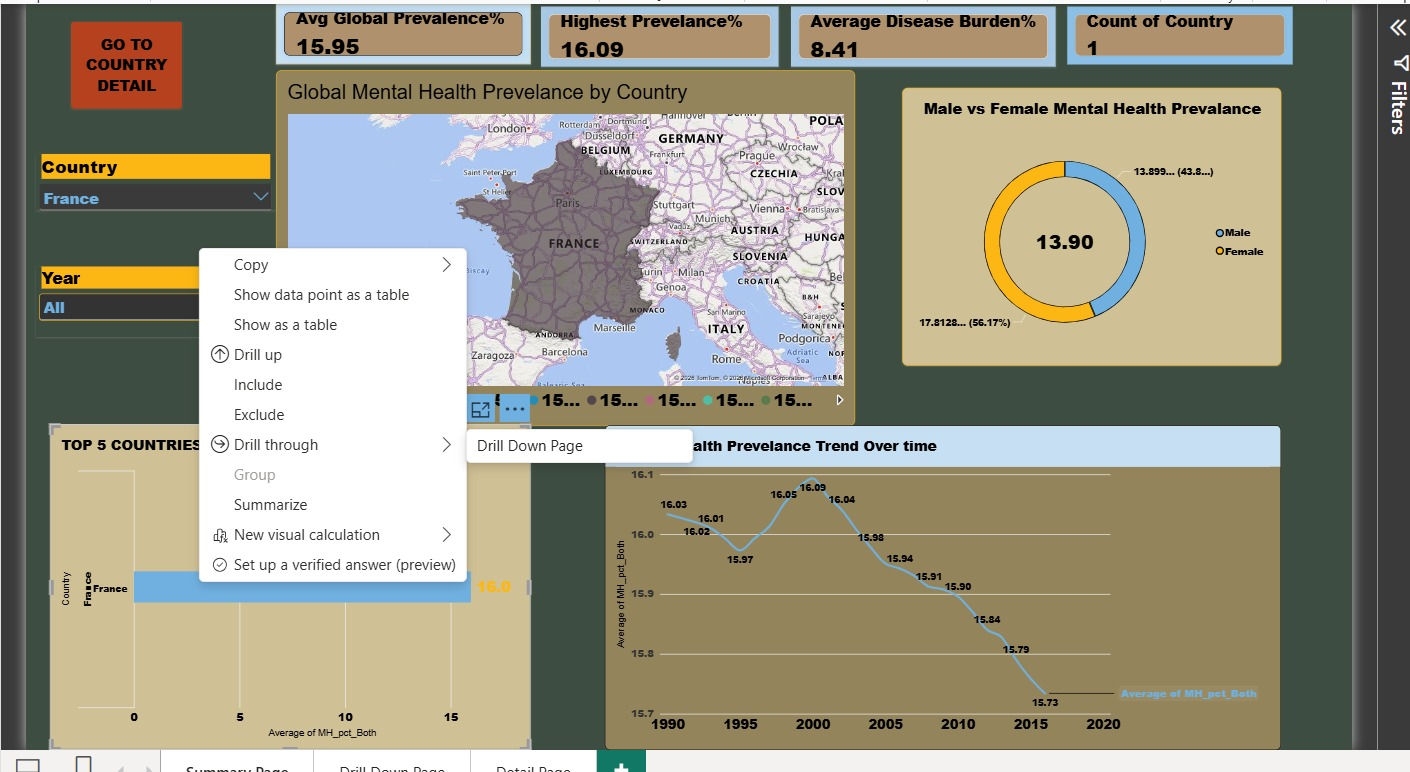

This screenshot's page, from the dashboard's own definition file:
{"tool":"powerbi","page":{"name":"Summary Page","canvas":[1920,1080],"ordinal":0},"visuals":[{"type":"filledMap","title":"Global Mental Health Prevelance by Country","fields":{"Category":["mental_health_disorder_prevalen.Country"],"Series":["mental_health_disorder_prevalen.MH_pct_Both"]},"box":[361.2,95.9,838.8,514.3],"z":0},{"type":"cardVisual","fields":{"Data":["Avg(mental_health_disorder_prevalen.MH_pct_Both)"]},"box":[361.2,0,369.4,87.8],"z":1000},{"type":"cardVisual","fields":{"Data":["Max(mental_health_disorder_prevalen.MH_pct_Both)"]},"box":[744.9,4.1,344.9,87.8],"z":2000},{"type":"cardVisual","fields":{"Data":["Avg(mental_health_disorder_prevalen.MH_DALY_Pct)"]},"box":[1108.2,4.1,383.7,87.8],"z":3000},{"type":"lineChart","title":"Mental Health Prevelance Trend Over time ","fields":{"Category":["mental_health_disorder_prevalen.Year"],"Y":["Avg(mental_health_disorder_prevalen.MH_pct_Both)"]},"box":[837.9,609.9,979,470.5],"z":4000},{"type":"clusteredBarChart","title":"TOP 5 COUNTRIES","fields":{"Category":["mental_health_disorder_prevalen.Country","mental_health_disorder_prevalen.Country"],"Y":["Avg(mental_health_disorder_prevalen.MH_pct_Both)"]},"box":[34.7,608.2,695.9,471.4],"z":5000},{"type":"slicer","fields":{"Values":["mental_health_disorder_prevalen.Year"]},"box":[14.3,379.6,346.9,102],"z":6000},{"type":"slicer","fields":{"Values":["mental_health_disorder_prevalen.Country"]},"box":[14.3,216.3,346.9,81.6],"z":7000},{"type":"donutChart","title":"Male vs Female Mental Health Prevalance","fields":{"Y":["Avg(mental_health_disorder_prevalen.MH_Pct_Male)","Avg(mental_health_disorder_prevalen.MH_Pct_Female)"]},"box":[1269.4,120.4,549,402],"z":8000},{"type":"cardVisual","fields":{"Data":["Count(mental_health_disorder_prevalen.Country)"]},"box":[1508.2,4.1,326.5,83.7],"z":9000},{"type":"actionButton","box":[65.3,24.5,161.2,126.5],"z":10000}]}

Visuals, with their boxes on the page's 1920x1080 design canvas (x1, y1, x2, y2). These are canvas units, not pixel positions in the 1410x772 screenshot, which may show the page scaled, cropped or inside an application window:
"Global Mental Health Prevelance by Country" filledMap: Rect(361, 96, 1200, 610)
cardVisual - Avg(mental_health_disorder_prevalen.MH_pct_Both): Rect(361, 0, 731, 88)
cardVisual - Max(mental_health_disorder_prevalen.MH_pct_Both): Rect(745, 4, 1090, 92)
cardVisual - Avg(mental_health_disorder_prevalen.MH_DALY_Pct): Rect(1108, 4, 1492, 92)
"Mental Health Prevelance Trend Over time " lineChart: Rect(838, 610, 1817, 1080)
"TOP 5 COUNTRIES" clusteredBarChart: Rect(35, 608, 731, 1080)
slicer - mental_health_disorder_prevalen.Year: Rect(14, 380, 361, 482)
slicer - mental_health_disorder_prevalen.Country: Rect(14, 216, 361, 298)
"Male vs Female Mental Health Prevalance" donutChart: Rect(1269, 120, 1818, 522)
cardVisual - Count(mental_health_disorder_prevalen.Country): Rect(1508, 4, 1835, 88)
actionButton: Rect(65, 24, 226, 151)
